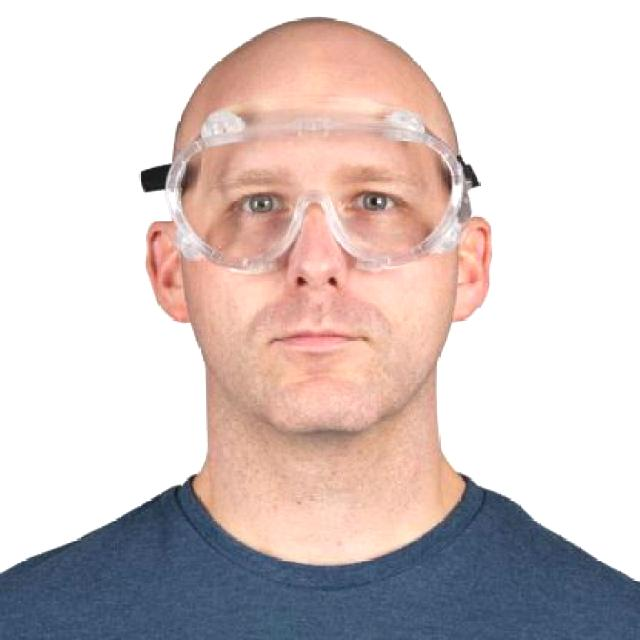face_nomask: (211, 167, 424, 385)
glasses: (163, 97, 472, 278)
head_nohelmet: (162, 10, 462, 99)
person: (0, 9, 640, 640)
